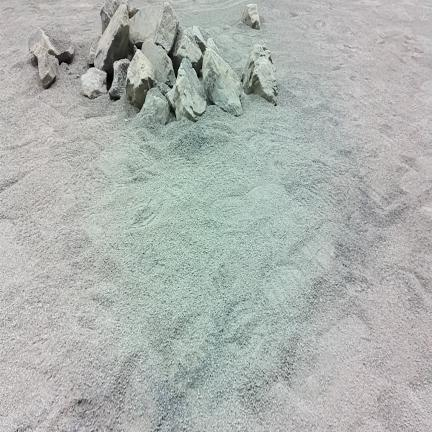Rock: (203, 39, 242, 115), (166, 59, 206, 122), (95, 5, 129, 72), (242, 44, 277, 104), (126, 50, 154, 109), (142, 41, 175, 87), (130, 5, 160, 48), (173, 32, 202, 75), (155, 2, 178, 52), (141, 88, 169, 124), (101, 0, 128, 33), (109, 59, 130, 100), (29, 28, 58, 57), (38, 52, 59, 88), (81, 68, 106, 98), (185, 26, 205, 53), (242, 4, 260, 30), (56, 45, 74, 63), (88, 38, 99, 66), (165, 86, 175, 112), (156, 82, 171, 95), (129, 3, 139, 19), (31, 55, 38, 67)
